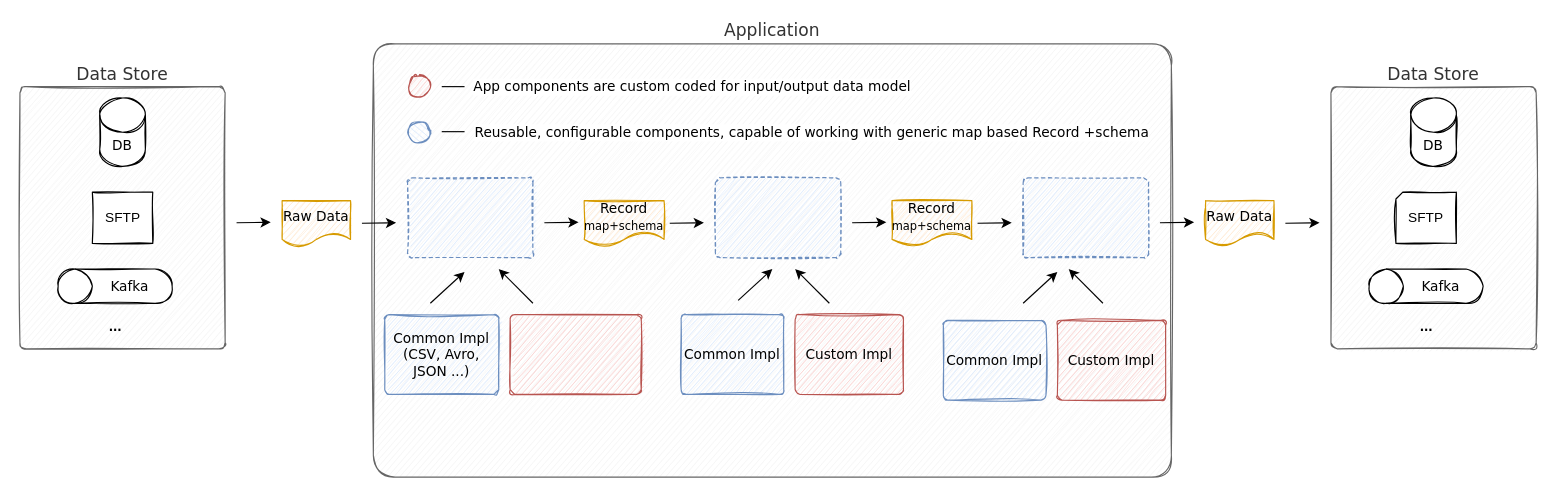
Image size: 1556x497. Some labels were removed from this diagram. The shapes that lost their labels are listed below. From the top down, each one's centre as x and y in pixels, then its label:
At point (469, 217): "Reader".
At point (777, 217): "Processor (Transform, Filter, Enrich, ...)".
At point (1085, 217): "Writer".
At point (575, 354): "Custom impl (no schema available, non-standard format ...)".
